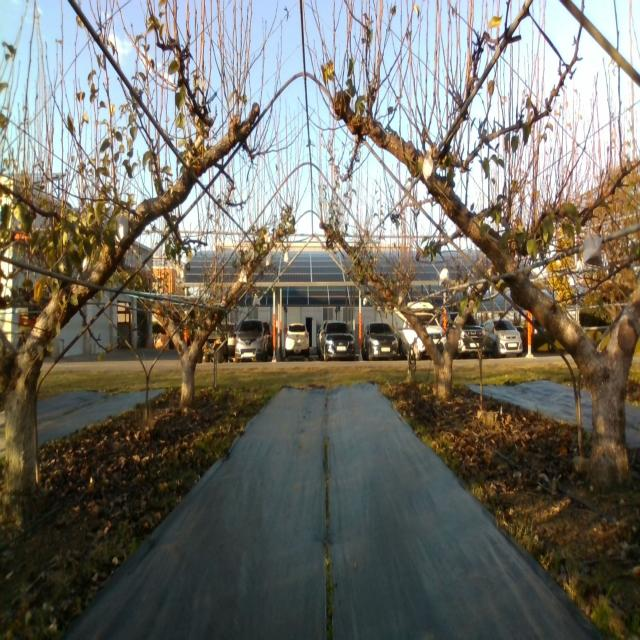pearbags: (582, 232, 602, 267), (115, 212, 129, 245), (422, 152, 434, 185), (440, 268, 450, 287)
